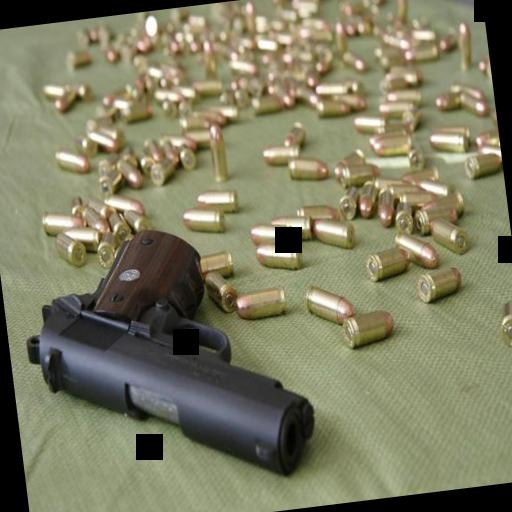Handgun: (8, 208, 322, 509)
